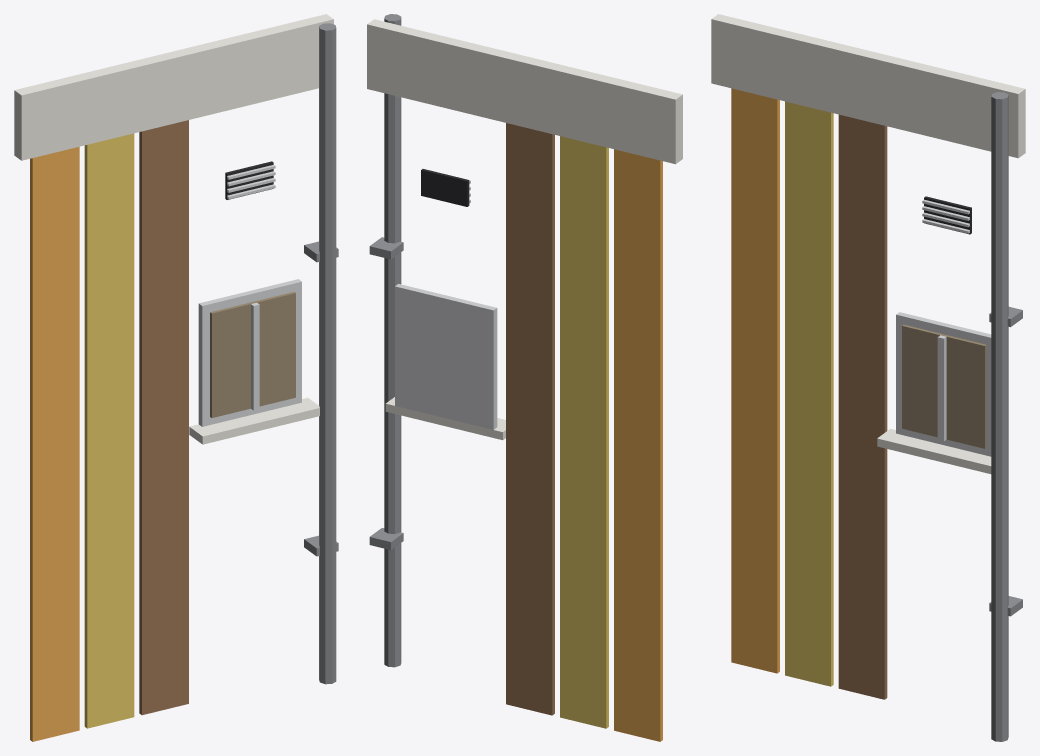
File: HJ_Fachada_C.fbx
3 renders of one model, left to right at view 1: azimuth 30°, elevation 25°; view 2: azimuth 150°, elevation 25°; view 3: azimuth 330°, elevation 25°, orthographic.
Parts seen in each view (by area): view 1: HJ_Fachada_C; view 2: HJ_Fachada_C; view 3: HJ_Fachada_C.
Boxes of the visible parts, x1,y1,x2,y2 form: HJ_Fachada_C: [14, 14, 338, 741]; HJ_Fachada_C: [367, 14, 682, 741]; HJ_Fachada_C: [711, 14, 1025, 741].
Bounding box in the file's own units: 2 × 4 × 0.2.
